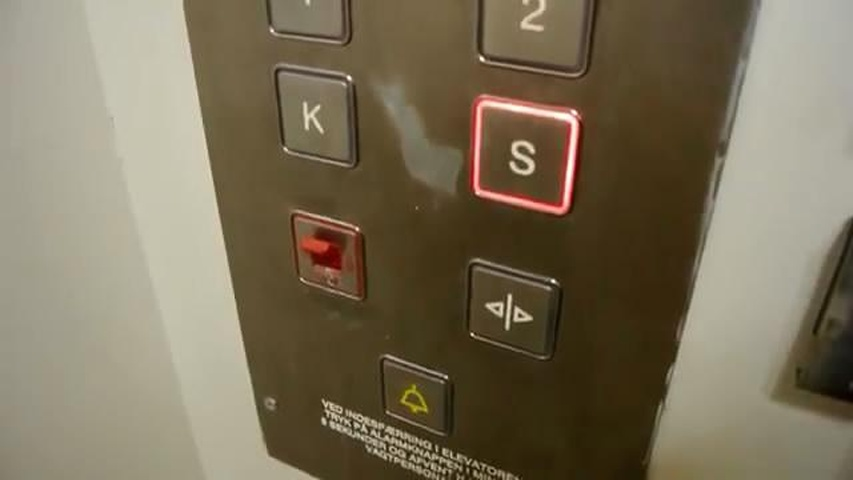2: (470, 1, 601, 83)
K: (265, 59, 363, 175)
S: (465, 92, 585, 220)
alarm: (376, 350, 455, 441)
bt_switch: (287, 206, 369, 305)
open: (459, 253, 565, 370)
